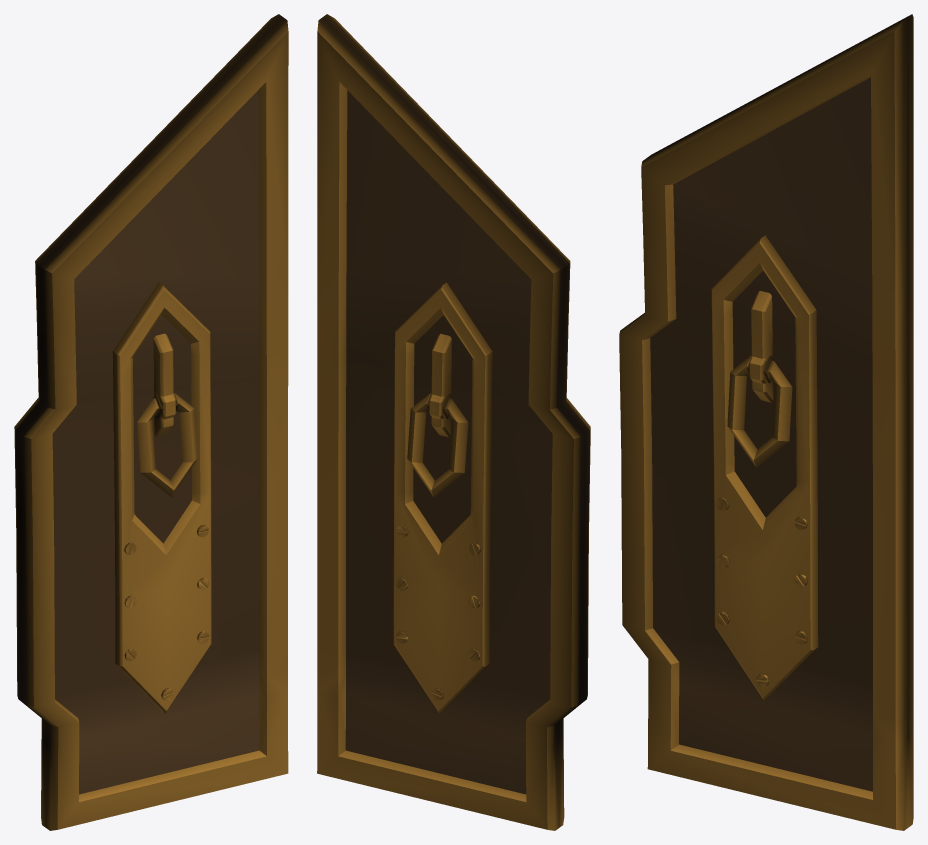
The model's file is obj_metalDoor_left.FBX.
3 views of the same model, side by side, from view 1: azimuth 30°, elevation 25°; view 2: azimuth 150°, elevation 25°; view 3: azimuth 330°, elevation 25° (orthographic). The views are drawn at different scales.
Parts seen in each view (by area): view 1: obj_metalDoor_left; view 2: obj_metalDoor_left; view 3: obj_metalDoor_left.
Part boxes in pixels (x1,y1,x2,y2): obj_metalDoor_left: (14, 14, 288, 830); obj_metalDoor_left: (317, 14, 590, 830); obj_metalDoor_left: (619, 14, 913, 830).
Bounding box in the file's own units: 1.68 × 4.59 × 0.3832.
